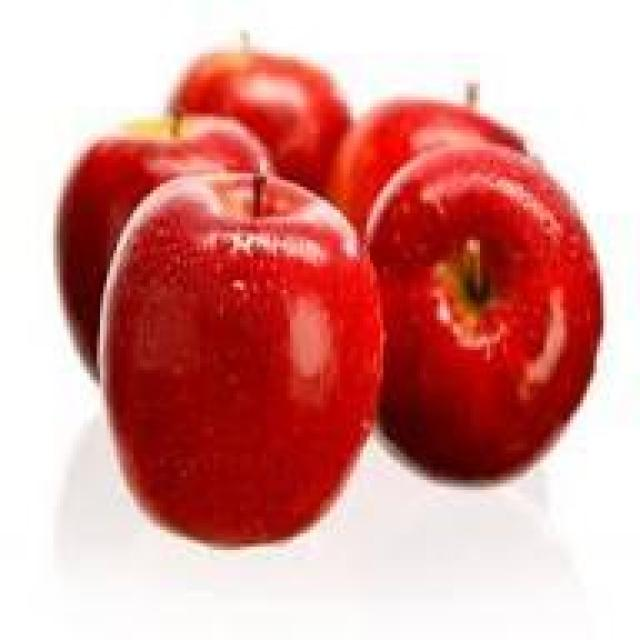apple: (107, 170, 380, 553), (360, 150, 603, 480), (70, 117, 283, 383), (333, 77, 547, 280), (170, 37, 347, 223)
